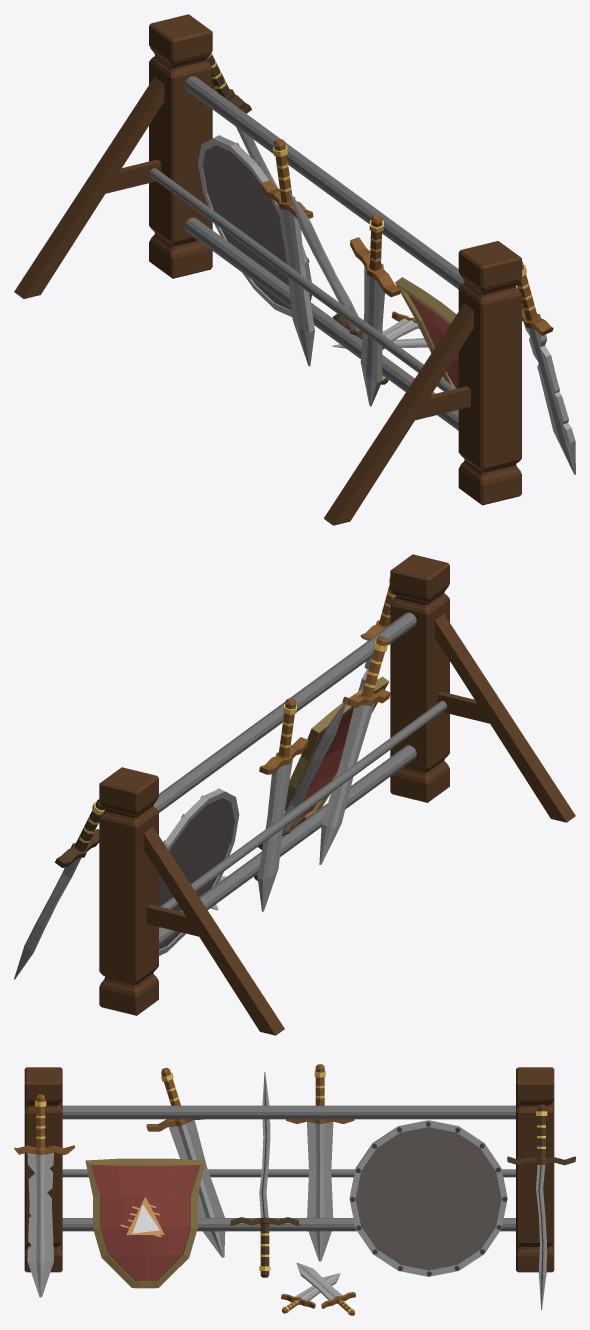
File: weaponholder.fbx
The picture shows the model from 3 angles, top to bottom: view 1: azimuth 30°, elevation 25°; view 2: azimuth 150°, elevation 25°; view 3: azimuth 270°, elevation 25°; orthographic projection. The views are drawn at different scales.
Visible parts, largest first — view 1: weaponholder, shield02, sword04.001, sword04, sword01, shield01, sword02, sword02.001; view 2: weaponholder, shield02, sword04, sword04.001, shield01, sword02.001, sword02, sword01; view 3: weaponholder, shield02, shield01, sword01, sword04.001, sword04, sword02.001, sword02, sword03, sword03.001.
Boxes of the visible parts, <box> form: weaponholder: <box>14,14,521,525</box>; shield02: <box>198,135,311,316</box>; sword04.001: <box>261,139,314,366</box>; sword04: <box>350,214,400,406</box>; sword01: <box>517,261,575,474</box>; shield01: <box>395,277,458,388</box>; sword02: <box>289,192,388,384</box>; sword02.001: <box>206,52,278,188</box>; weaponholder: <box>99,554,575,1035</box>; shield02: <box>159,788,239,955</box>; sword04: <box>319,636,390,864</box>; sword04.001: <box>257,698,308,911</box>; shield01: <box>284,676,389,818</box>; sword02.001: <box>14,799,104,979</box>; sword02: <box>254,700,346,880</box>; sword01: <box>358,577,395,691</box>; weaponholder: <box>24,1067,554,1272</box>; shield02: <box>349,1120,507,1276</box>; shield01: <box>85,1158,205,1288</box>; sword01: <box>14,1094,74,1297</box>; sword04.001: <box>286,1064,354,1261</box>; sword04: <box>146,1067,225,1257</box>; sword02.001: <box>507,1104,575,1310</box>; sword02: <box>230,1072,299,1277</box>; sword03: <box>296,1262,355,1315</box>; sword03.001: <box>281,1273,340,1313</box>.
Size of the model in its own units: 105 by 80.75 by 215.
